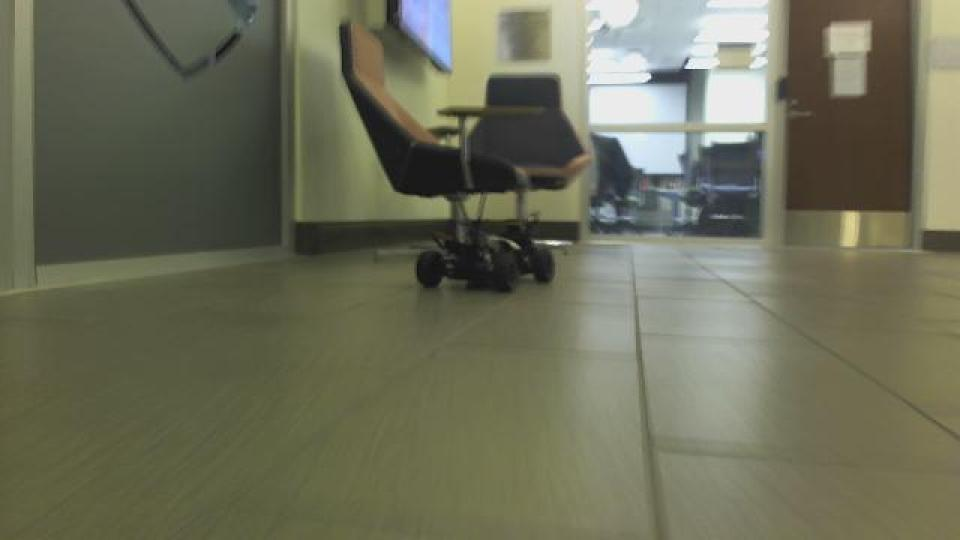car: (333, 18, 593, 296)
